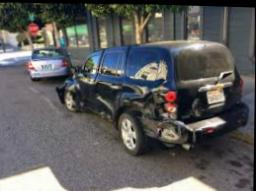Door: (88, 76, 126, 124), (75, 71, 95, 112)
Fender: (140, 116, 197, 148), (117, 85, 165, 118)
